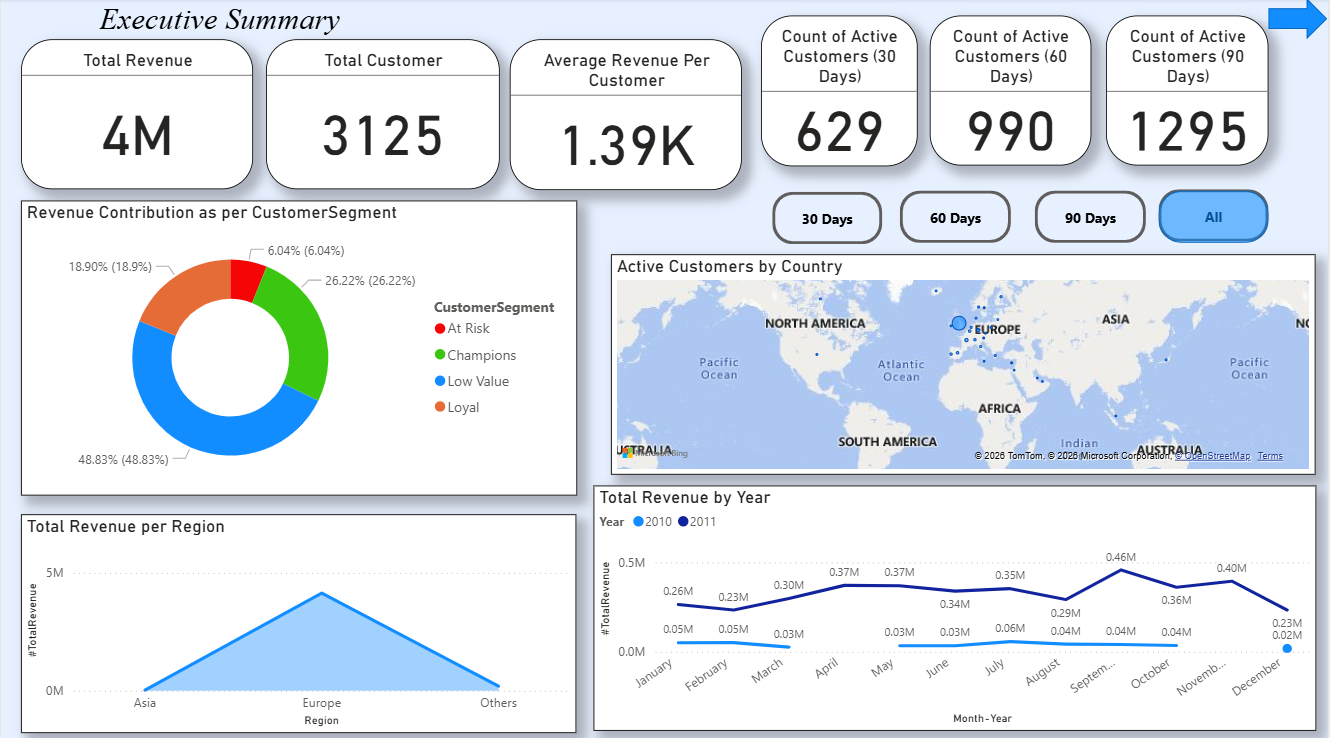

Layout of this report page (visuals, bound fields, positions):
{"tool":"powerbi","page":{"name":"Executive Summary","canvas":[1280,720],"ordinal":0},"visuals":[{"type":"card","title":"Total Revenue","fields":{"Values":["Measure.#TotalRevenue"]},"box":[19.3,39.8,224.4,144.8],"z":0},{"type":"card","title":"Total Customer","fields":{"Values":["Measure.#TotalCustomer"]},"box":[255.8,39.8,225.6,144.8],"z":1000},{"type":"card","title":"Average Revenue Per Customer","fields":{"Values":["Measure.#AVGRevenuePerCustomer"]},"box":[491,39.8,224.4,146],"z":2000},{"type":"card","title":"Count of Active Customers (30 Days)","fields":{"Values":["Measure.#30DaysRecency"]},"box":[733.5,16.9,150.8,146],"z":3000},{"type":"card","title":"Count of Active Customers (60 Days)","fields":{"Values":["Measure.#60DaysRecency"]},"box":[896.4,16.9,155.6,144.8],"z":4000},{"type":"card","title":" Count of Active Customers (90 Days)","fields":{"Values":["Measure.#90DaysRecency"]},"box":[1066.5,16.9,156.8,144.8],"z":5000},{"type":"actionButton","title":"active30","box":[744.4,187,106.2,50.7],"z":6000},{"type":"actionButton","title":"active60","box":[867.4,185.8,107.4,50.7],"z":7000},{"type":"actionButton","title":"active90","box":[997.7,185.8,107.4,50.7],"z":8000},{"type":"actionButton","title":"activeall","box":[1117.2,184.6,106.2,50.7],"z":12000},{"type":"shape","title":"fillall","box":[1117.2,185.8,106.2,50.7],"z":13000},{"type":"donutChart","title":"Revenue Contribution as per CustomerSegment","fields":{"Category":["Dim_Customers.CustomerSegment"],"Y":["Measure.#%Contri"]},"box":[19.6,195.7,536.8,284.9],"z":14000},{"type":"areaChart","title":"Total Revenue per Region","fields":{"Category":["Dim_Country.Region"],"Y":["Measure.#TotalRevenue"]},"box":[19.6,497.7,535.6,211.6],"z":15000},{"type":"map","title":"Active Customers by Country","fields":{"Category":["Dim_Country.Country"],"Size":["Measure.#distinctCustomer"]},"box":[588.2,247,679.9,212.8],"z":16000},{"type":"shape","box":[1223.3,0,56.7,39.8],"z":17000},{"type":"shape","box":[0,0,422.3,39.8],"z":18000},{"type":"lineChart","title":"Total Revenue by Year","fields":{"Category":["Dim_Date.Date.Variation.Date Hierarchy.Month"],"Y":["Measure.#TotalRevenue"],"Series":["Dim_Date.Date.Variation.Date Hierarchy.Year"]},"box":[571.9,470.5,697.3,236.5],"z":19000}]}

Visuals, with their boxes in screenshot pixels (x1, y1, x2, y2), scaled from the page's 1280x720 canvas onto the 1330x738 screenshot:
"Total Revenue" card: rect(20, 41, 253, 189)
"Total Customer" card: rect(266, 41, 500, 189)
"Average Revenue Per Customer" card: rect(510, 41, 743, 190)
"Count of Active Customers (30 Days)" card: rect(762, 17, 919, 167)
"Count of Active Customers (60 Days)" card: rect(931, 17, 1093, 166)
" Count of Active Customers (90 Days)" card: rect(1108, 17, 1271, 166)
"active30" actionButton: rect(773, 192, 884, 244)
"active60" actionButton: rect(901, 190, 1013, 242)
"active90" actionButton: rect(1037, 190, 1148, 242)
"activeall" actionButton: rect(1161, 189, 1271, 241)
"fillall" shape: rect(1161, 190, 1271, 242)
"Revenue Contribution as per CustomerSegment" donutChart: rect(20, 201, 578, 493)
"Total Revenue per Region" areaChart: rect(20, 510, 577, 727)
"Active Customers by Country" map: rect(611, 253, 1318, 471)
shape: rect(1271, 0, 1329, 41)
shape: rect(0, 0, 439, 41)
"Total Revenue by Year" lineChart: rect(594, 482, 1319, 725)
